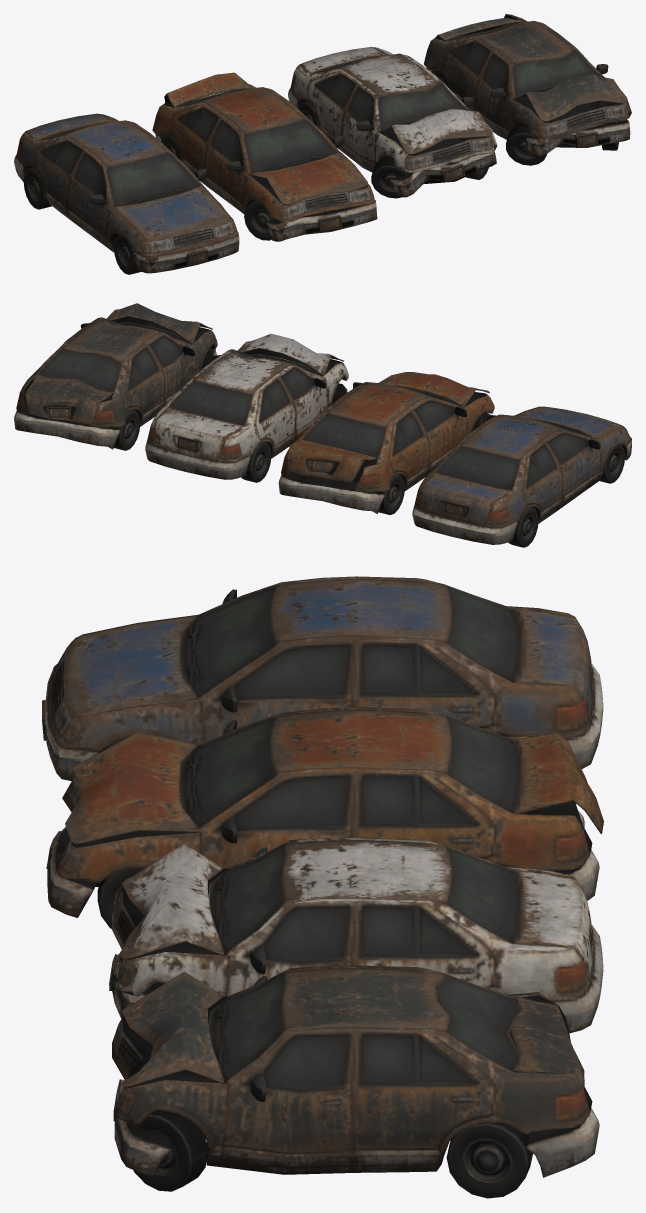
File: Ruin Cars2.fbx
3 views of the same model, one above another, from view 1: azimuth 30°, elevation 25°; view 2: azimuth 150°, elevation 25°; view 3: azimuth 270°, elevation 25° (orthographic). The views are drawn at different scales.
Parts seen in each view (by area): view 1: 003, 3, 1, Object001; view 2: 003, 3, 1, Object001; view 3: Object001, 3, 003, 1.
Part boxes in pixels (x1,y1,x2,y2): 003: [14, 113, 239, 274]; 3: [152, 72, 377, 241]; 1: [288, 47, 497, 198]; Object001: [424, 14, 631, 165]; 003: [412, 406, 631, 547]; 3: [278, 372, 494, 514]; 1: [145, 333, 348, 482]; Object001: [14, 303, 217, 450]; Object001: [112, 965, 599, 1198]; 3: [46, 707, 603, 928]; 003: [42, 576, 603, 780]; 1: [109, 837, 603, 1033].
Size of the model in its own units: 2601 by 384 by 1236.
